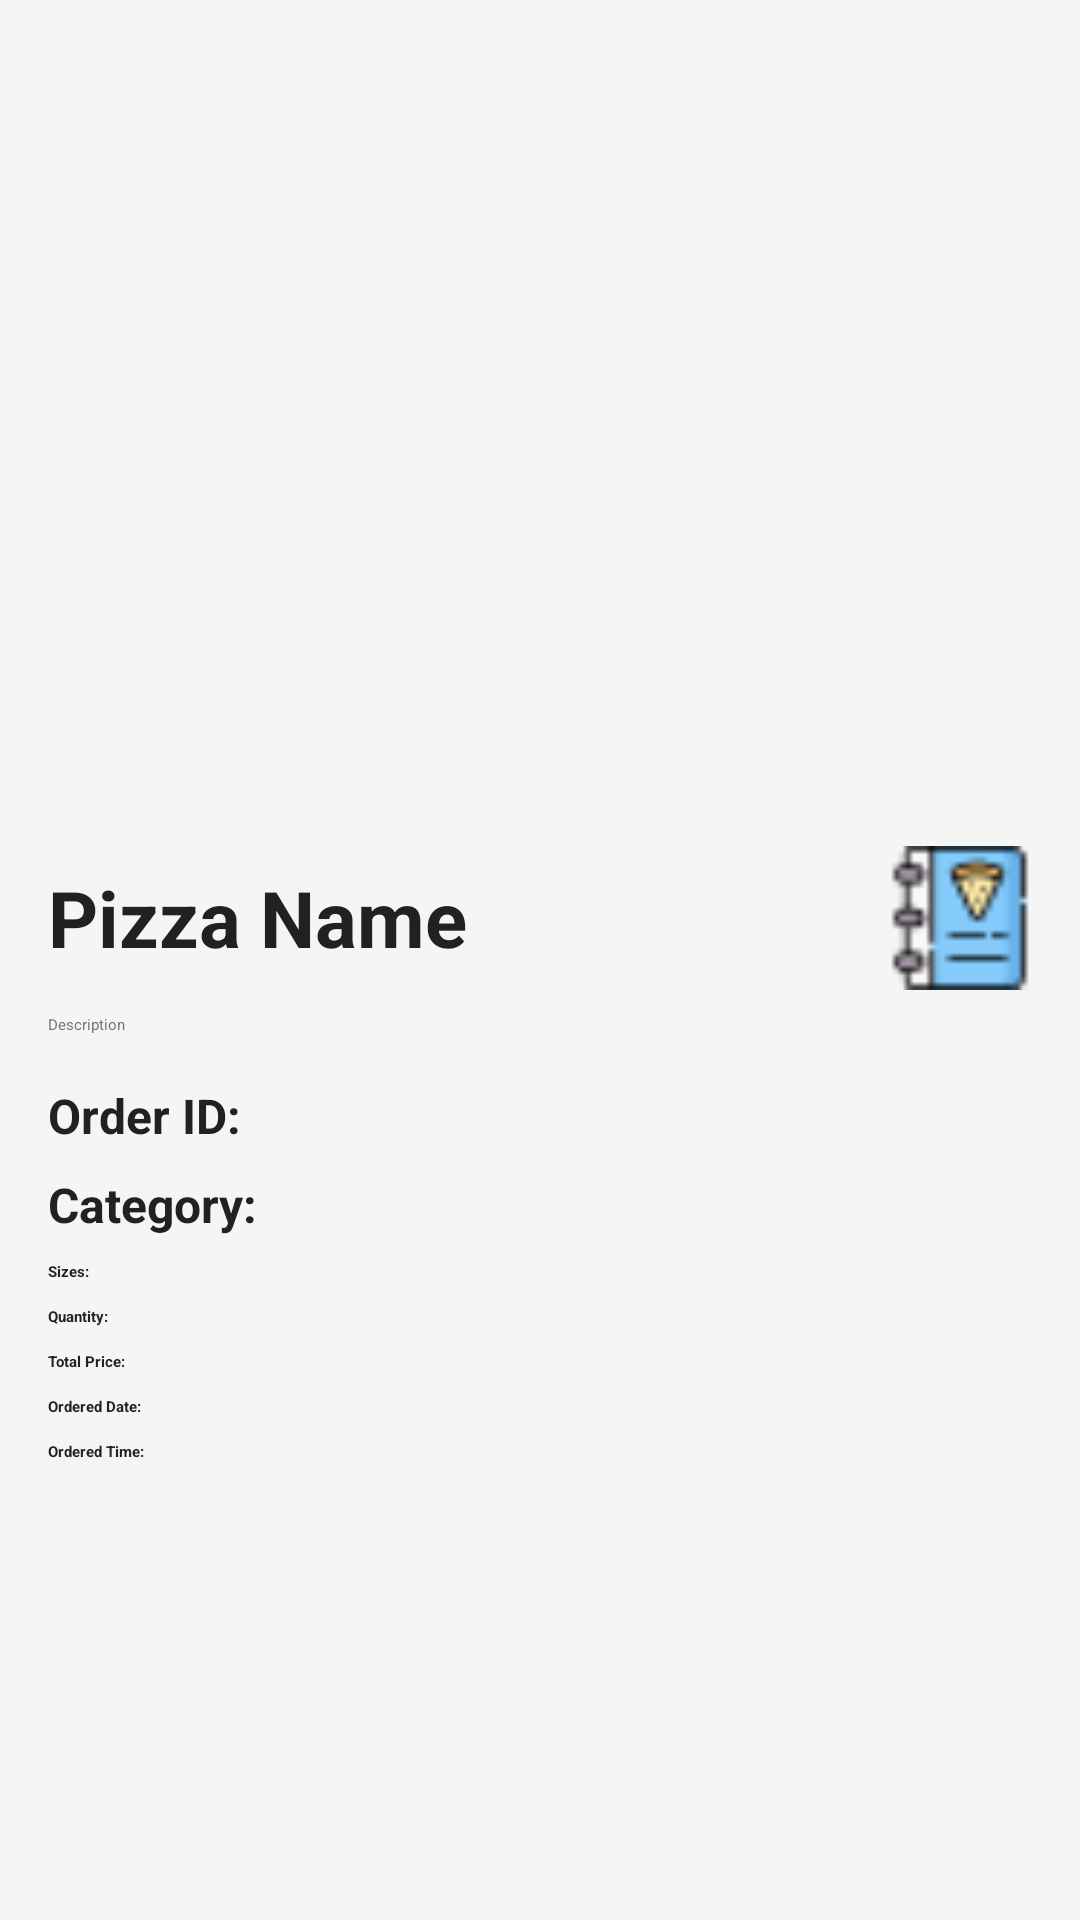

Point at icon controls on the screen. Image size 1080 × 1920, points as point (x, y).
menu: point (960, 918)
